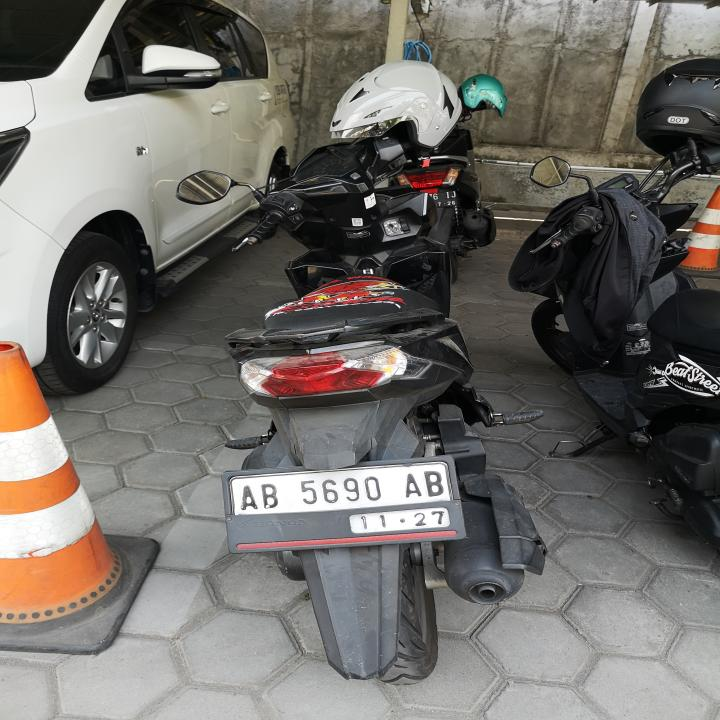plate: (219, 452, 466, 558)
